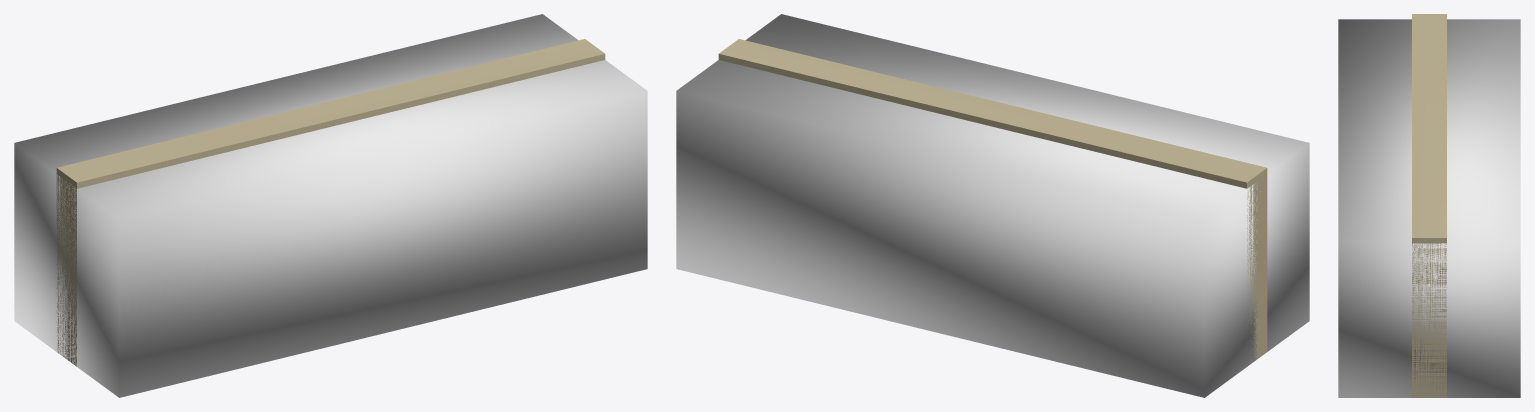
The model's file is vendas.glb.
The picture shows the model from 3 angles, left to right: view 1: azimuth 30°, elevation 25°; view 2: azimuth 150°, elevation 25°; view 3: azimuth 270°, elevation 25°; orthographic projection. The views are drawn at different scales.
Visible parts, largest first — view 1: vendas-colcaja, vendas; view 2: vendas-colcaja, vendas; view 3: vendas-colcaja, vendas.
Boxes of the visible parts, x1=… form: vendas-colcaja: x1=14, y1=14, x2=647, y2=397; vendas: x1=56, y1=39, x2=605, y2=366; vendas-colcaja: x1=676, y1=14, x2=1309, y2=397; vendas: x1=718, y1=39, x2=1267, y2=362; vendas-colcaja: x1=1338, y1=19, x2=1520, y2=397; vendas: x1=1412, y1=14, x2=1446, y2=397.
Size of the model in its own units: 0.18 by 0.06 by 0.062.
